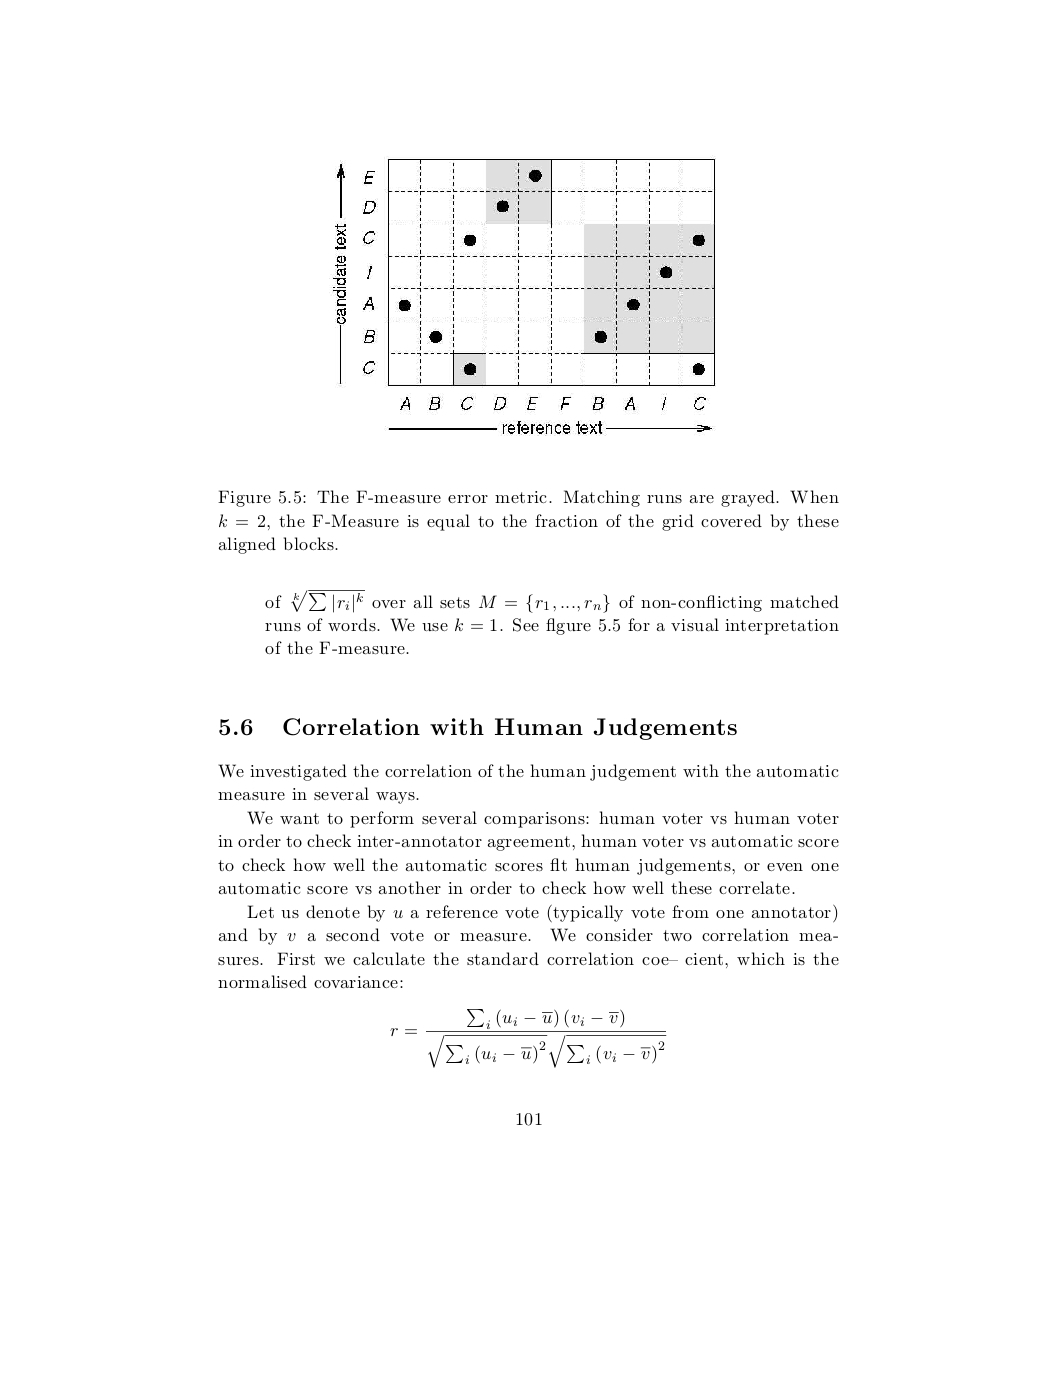figure: (329, 155, 716, 435)
formula: (390, 1007, 666, 1068)
